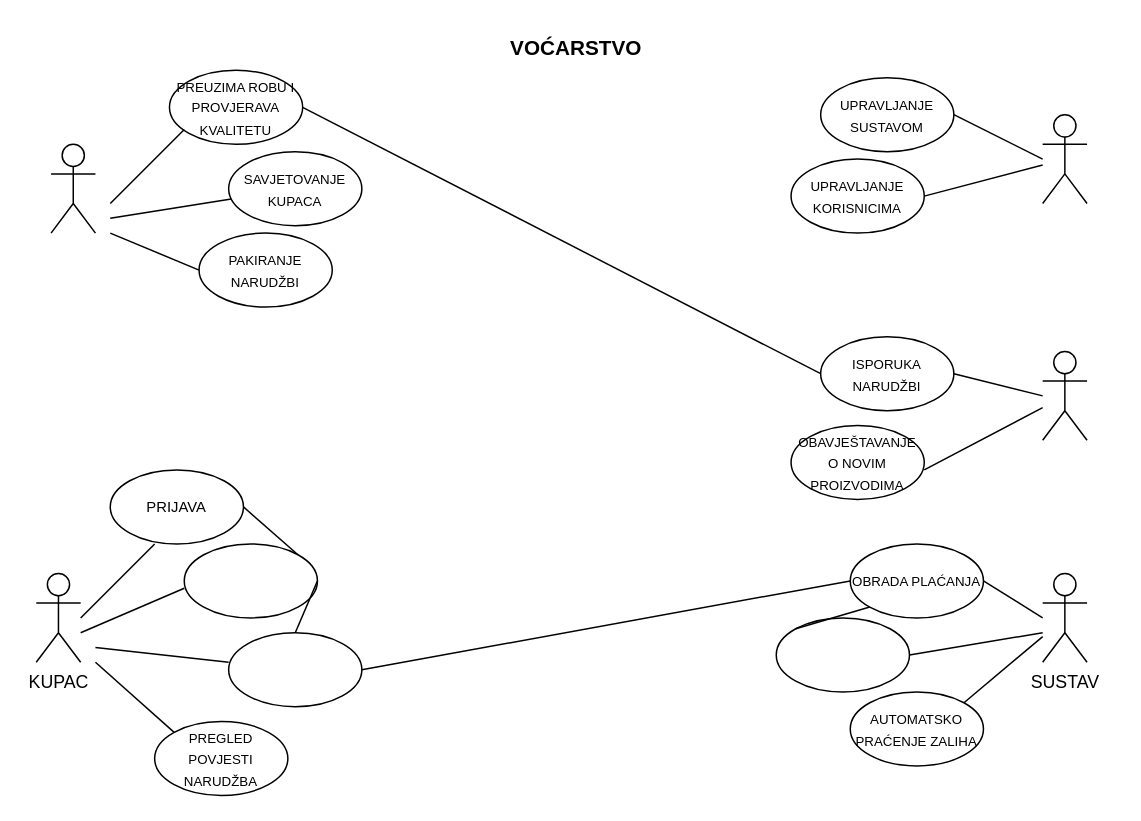
This 1141x821 diagram has some shape labels left out. Here are the shapes that lost their labels. From the top down, the box of each, then its label:
(1041, 113, 1087, 204): ADMIN
(50, 143, 95, 233): DJELATNIK
(1041, 350, 1087, 440): DOBAVLJAČ
(183, 542, 317, 618): PREGLED VOĆA
(227, 631, 362, 707): KREIRANJE NARUDŽBE
(775, 616, 909, 692): PROVJERA TRANSAKCIJE
